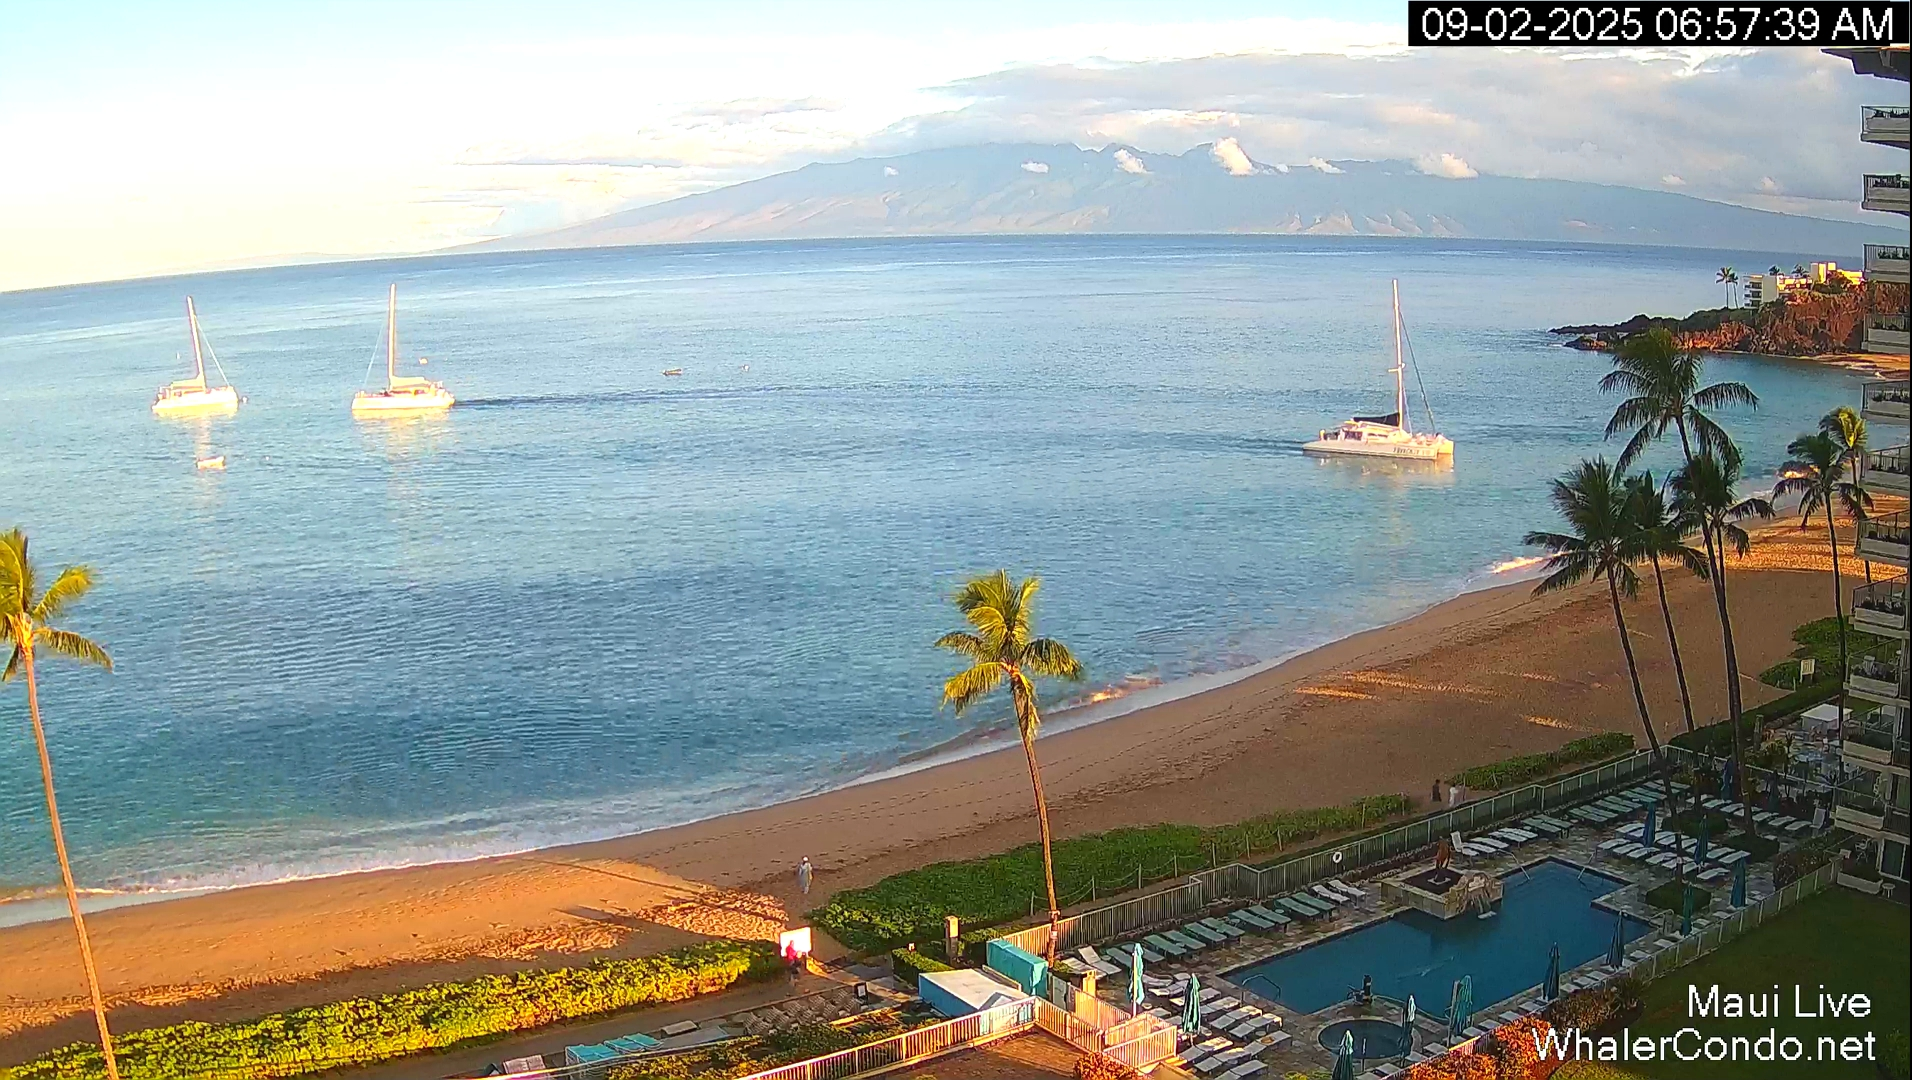boat: (1302, 278, 1455, 461), (350, 283, 456, 418), (150, 295, 240, 417), (440, 1032, 640, 1079), (196, 455, 226, 471)
person: (797, 855, 814, 894), (786, 940, 797, 965), (1431, 779, 1442, 803), (1448, 783, 1457, 807)
